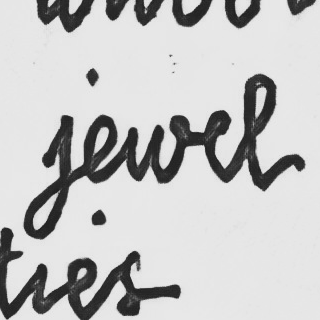e: (80, 112, 120, 186), (200, 109, 233, 185)
j: (19, 111, 76, 241)
l: (241, 71, 288, 194)
w: (122, 113, 193, 185)
